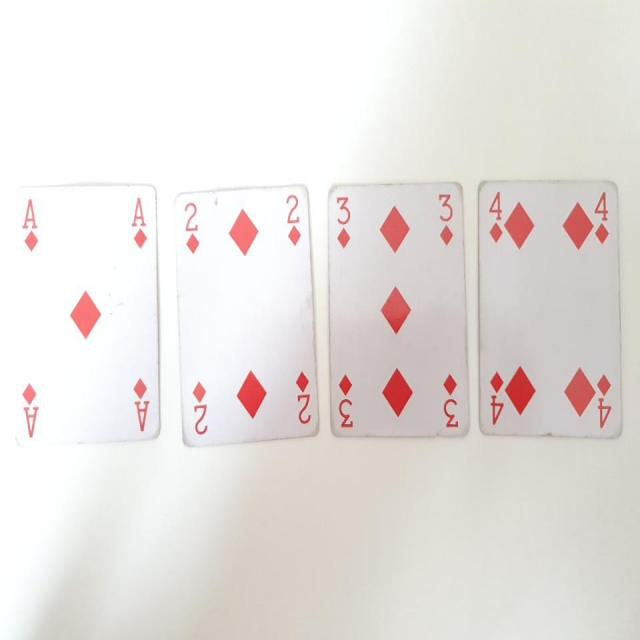2 Diamonds: (171, 178, 322, 445)
3 Diamonds: (325, 180, 472, 440)
4 Diamonds: (476, 172, 627, 444)
A Diamonds: (10, 172, 167, 446)
